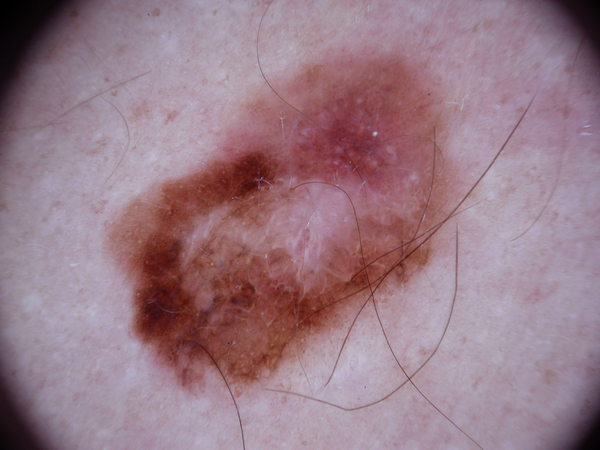Detected Lesion: (106, 48, 457, 389)
